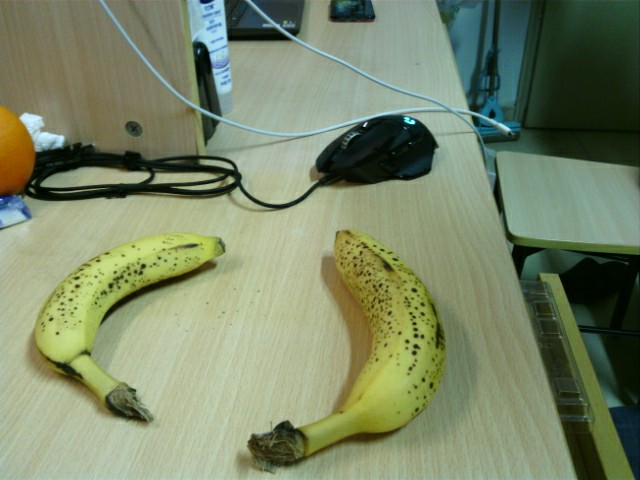normal_banana: (247, 229, 445, 472), (33, 233, 227, 423)
